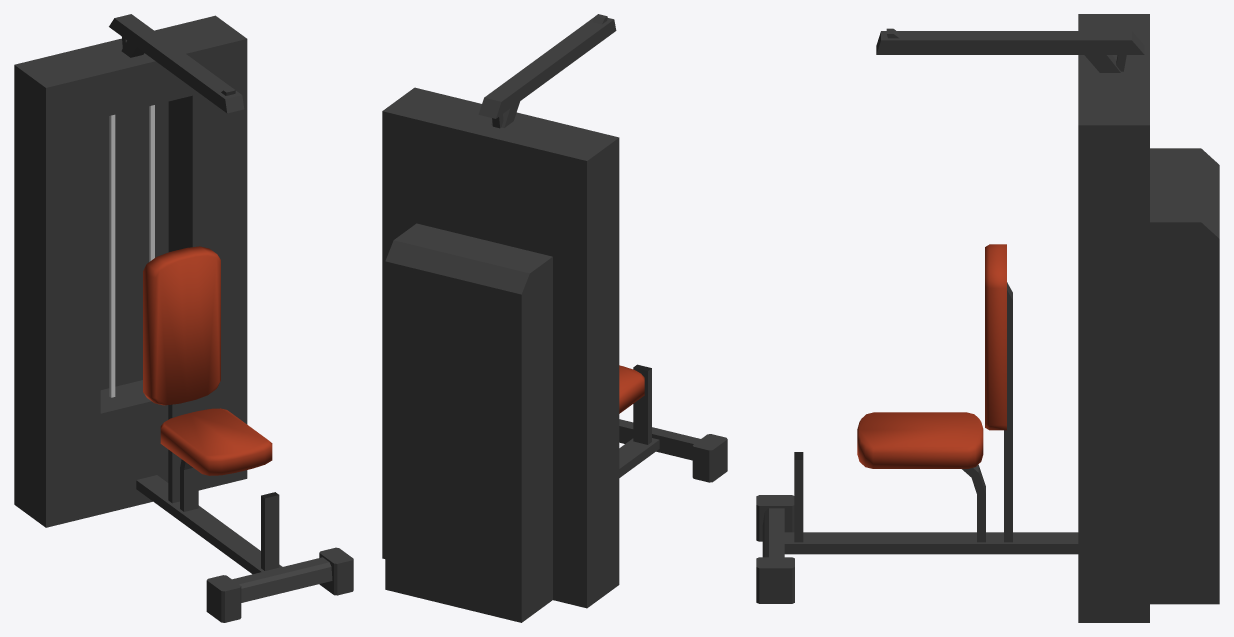
Rendered from emachine_3.glb.
3 views of the same model, side by side, from view 1: azimuth 30°, elevation 25°; view 2: azimuth 150°, elevation 25°; view 3: azimuth 270°, elevation 25° (orthographic). The views are drawn at different scales.
Visible parts, largest first — view 1: E_Machine_3; view 2: E_Machine_3; view 3: E_Machine_3.
Part boxes in pixels (x1,y1,x2,y2): E_Machine_3: (14, 14, 353, 622); E_Machine_3: (382, 14, 727, 622); E_Machine_3: (756, 14, 1219, 622).
Bounding box in the file's own units: 0.9475 × 2.13 × 1.67.
Materials: 1 (1 with a texture image).
